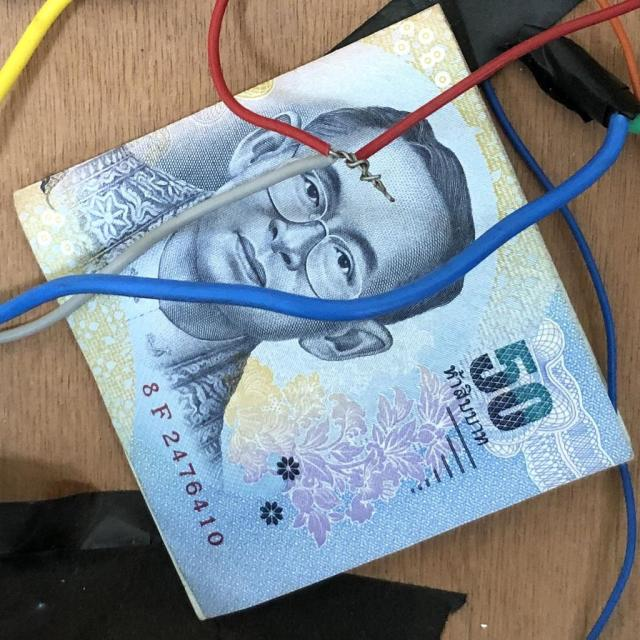THAI50: (69, 228, 631, 619), (120, 91, 524, 299), (15, 104, 312, 279), (237, 9, 468, 151)
